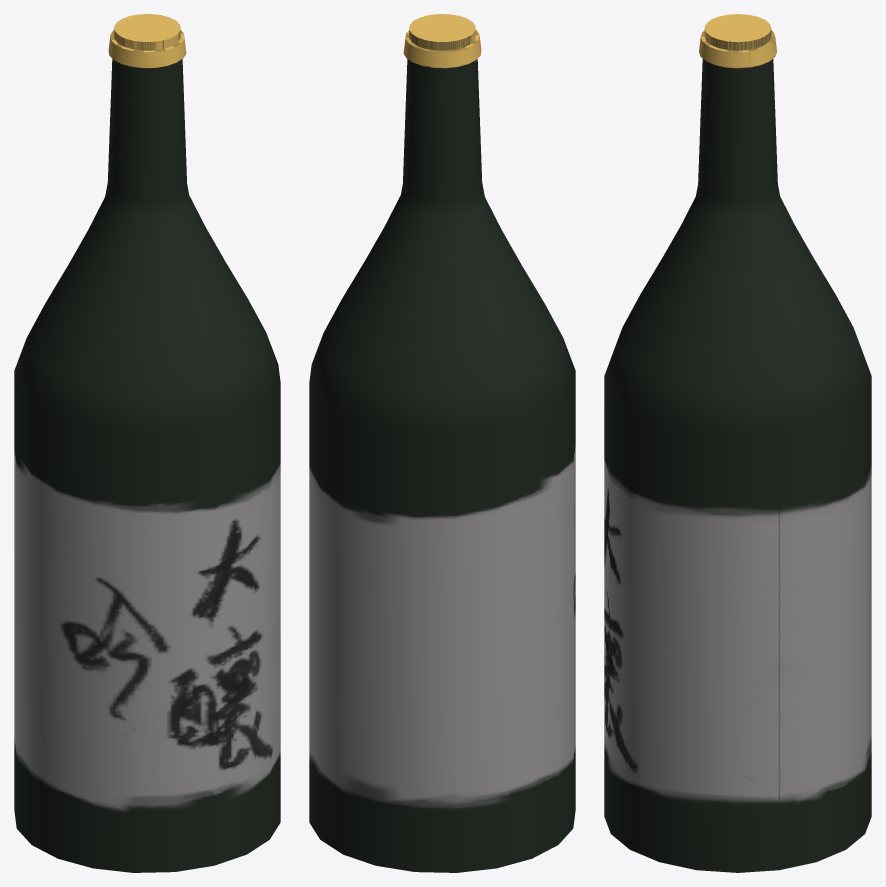
The model's file is sake_bottle_obj.obj.
The picture shows the model from 3 angles, left to right: view 1: azimuth 30°, elevation 25°; view 2: azimuth 150°, elevation 25°; view 3: azimuth 270°, elevation 25°; orthographic projection.
Visible parts, largest first — view 1: bottle_2_GEO; view 2: bottle_2_GEO; view 3: bottle_2_GEO.
Part boxes in pixels (left/top/right/bottom): bottle_2_GEO: left=14, top=14, right=280, bottom=872; bottle_2_GEO: left=309, top=14, right=575, bottom=872; bottle_2_GEO: left=604, top=14, right=871, bottom=872.
Size of the model in its own units: 2 by 6.5 by 2.
